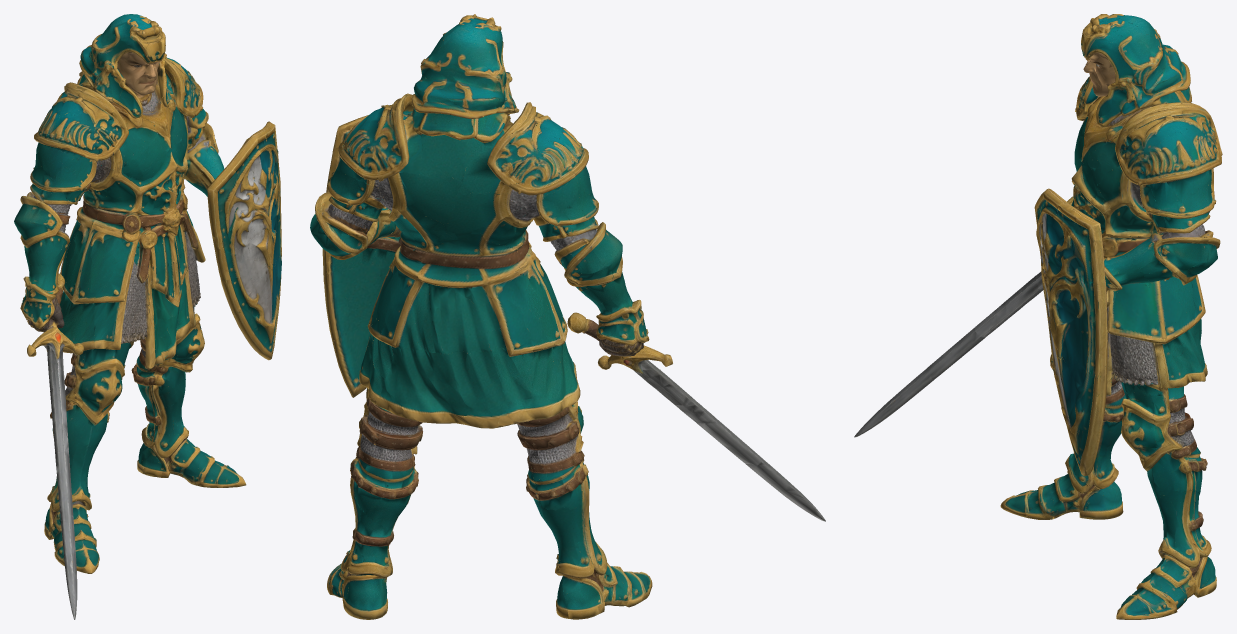
File: gascor-preview.glb
3 views of the same model, side by side, from view 1: azimuth 30°, elevation 25°; view 2: azimuth 150°, elevation 25°; view 3: azimuth 270°, elevation 25° (orthographic). The views are drawn at different scales.
Visible parts, largest first — view 1: Gascor_Meshy; view 2: Gascor_Meshy; view 3: Gascor_Meshy.
Boxes of the visible parts, box(x1,y1,x2,y2) form: Gascor_Meshy: box(14, 14, 281, 619); Gascor_Meshy: box(310, 14, 825, 619); Gascor_Meshy: box(854, 14, 1222, 619).
Bounding box in the file's own units: 1.49 × 2.2 × 1.35.
1 material, 1 textured.
